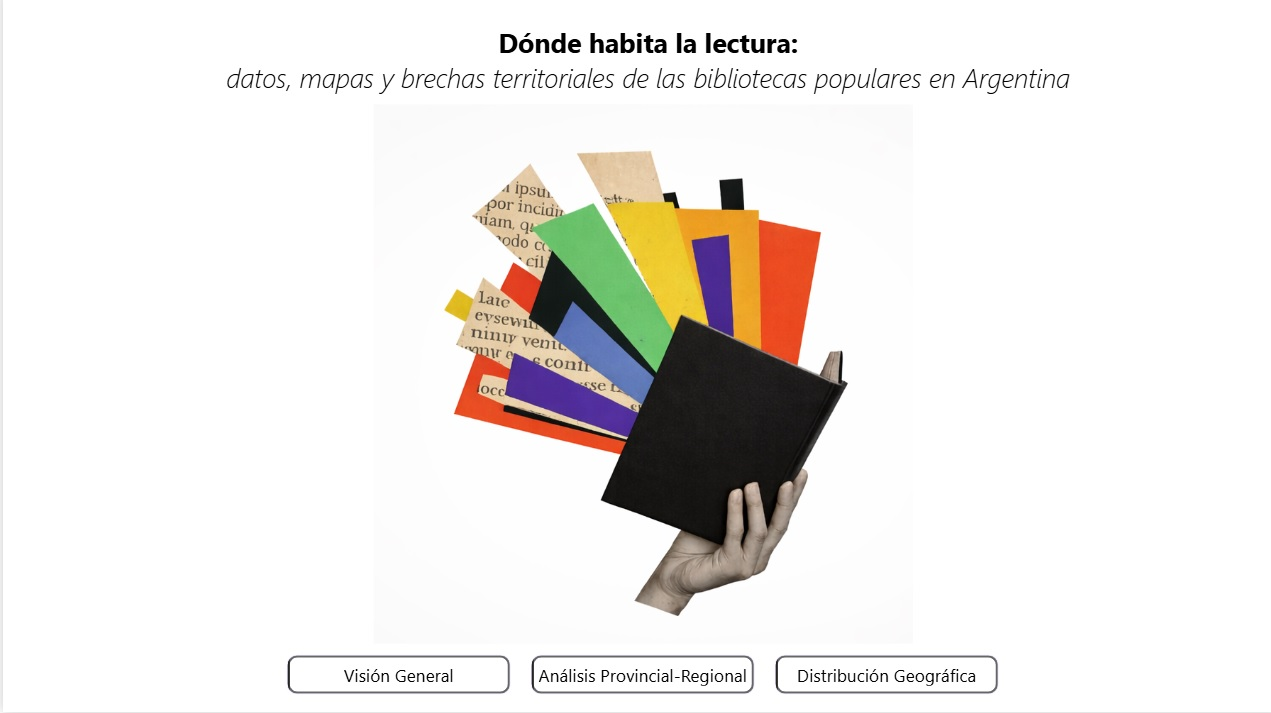

This screenshot's page, from the dashboard's own definition file:
{"tool":"powerbi","page":{"name":"Portada","canvas":[1280,720],"ordinal":0},"visuals":[{"type":"textbox","box":[9.7,27.7,1270.4,84.5],"z":0},{"type":"pageNavigator","box":[283.3,661.9,713.1,40.5],"z":1000},{"type":"image","box":[350,111.9,581,539.3],"z":2000}]}

Visuals, with their boxes in screenshot pixels (x1, y1, x2, y2), scaled from the page's 1280x720 canvas onto the 1271x713 screenshot:
textbox: Rect(10, 27, 1270, 111)
pageNavigator: Rect(281, 655, 989, 696)
image: Rect(348, 111, 924, 645)
